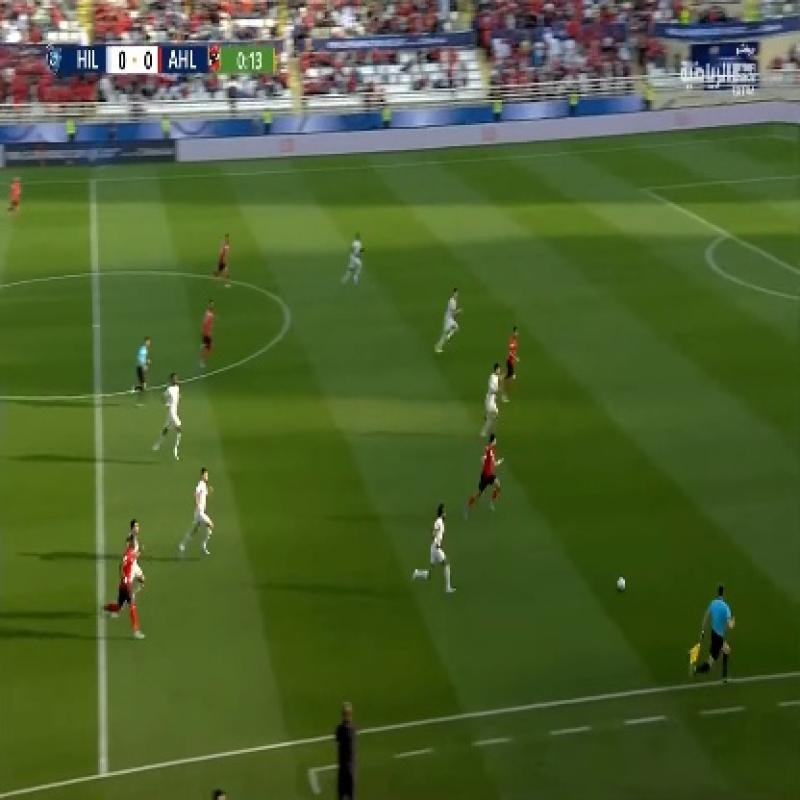1: (766, 125, 792, 144)
10: (712, 219, 740, 248)
13: (83, 166, 104, 192)
14: (80, 256, 110, 290)
15: (82, 374, 112, 418)
16: (87, 746, 121, 790)
9: (633, 175, 654, 200)
c: (276, 298, 300, 326)
